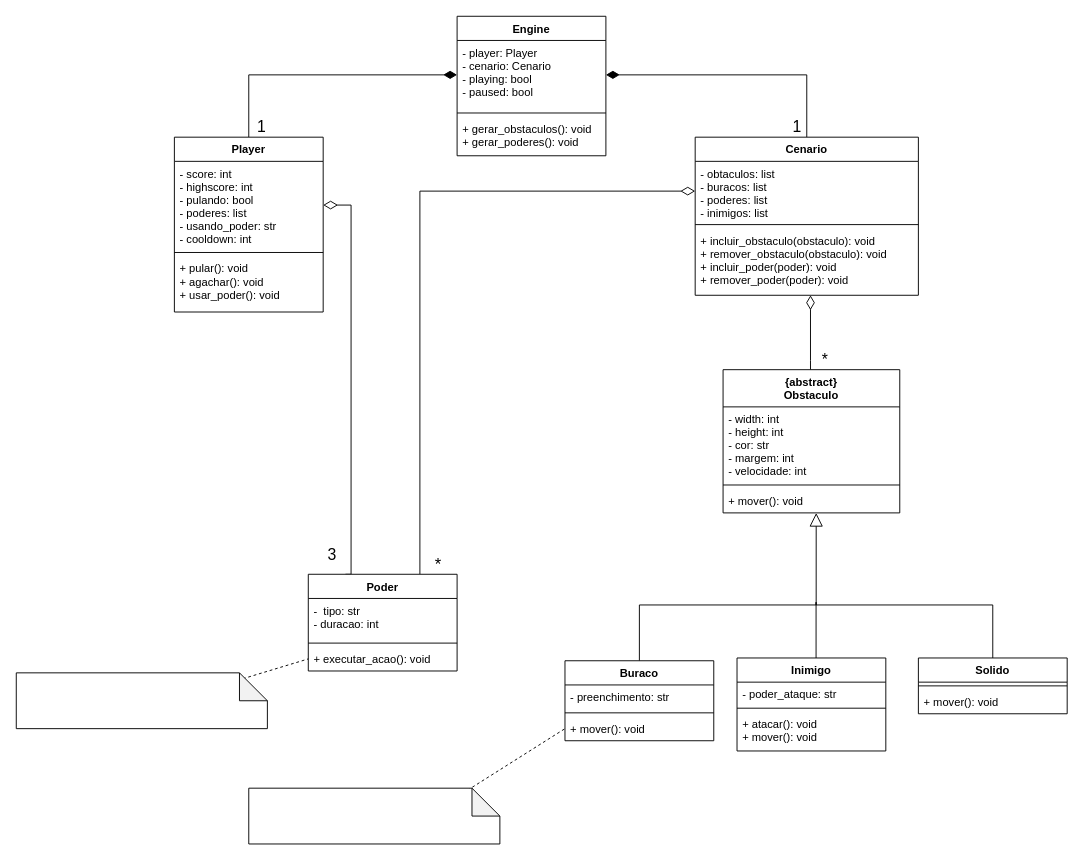
The diagram is 1083 pixels wide and 860 high, and some of its shapes have lost their labels. Here are the shapes that lost their labels. From the top down, the centre of each, then its label:
the point at 141,700: tipo = 'invisibilidade' ou 'explosao' ou 'slow'
the point at 374,815: preenchimento = 'agua' ou 'lava' ou 'vazio'
